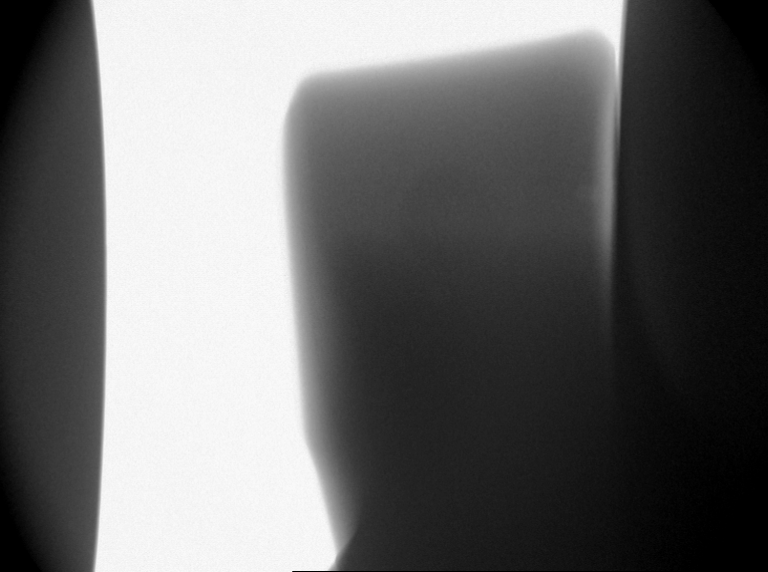defect: (574, 181, 596, 206)
